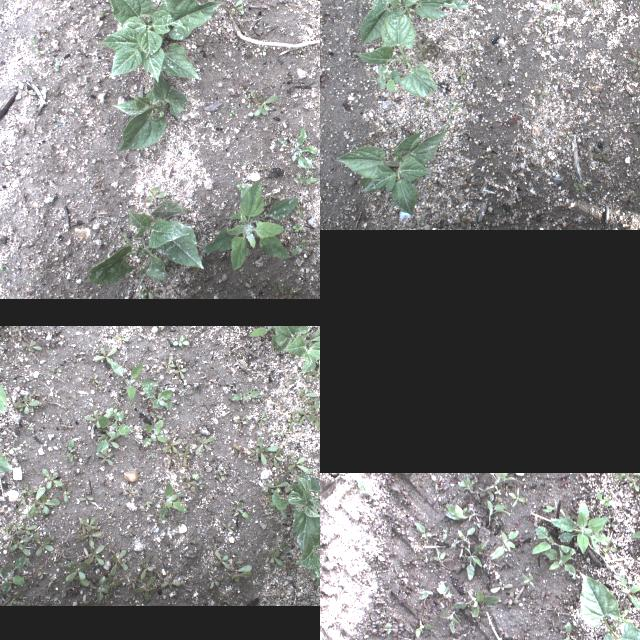crop: (95, 0, 222, 83), (86, 200, 204, 286), (335, 128, 449, 214), (353, 16, 435, 96), (110, 72, 188, 154), (360, 0, 471, 43), (262, 471, 320, 552), (579, 571, 640, 640), (272, 326, 320, 372), (295, 526, 320, 586), (0, 409, 13, 471)
weed: (205, 181, 298, 271), (549, 502, 609, 554), (111, 360, 159, 400), (275, 126, 319, 168), (17, 482, 61, 518), (96, 410, 132, 452), (532, 526, 574, 560), (449, 588, 498, 616), (478, 472, 524, 500), (160, 482, 188, 520), (1, 554, 27, 594), (614, 574, 640, 612), (540, 548, 576, 574), (464, 538, 486, 580), (490, 529, 520, 559), (244, 90, 278, 116), (441, 97, 467, 129), (249, 326, 280, 352), (250, 437, 278, 465), (374, 65, 402, 91), (429, 540, 453, 570), (142, 419, 168, 446), (446, 503, 484, 521), (61, 562, 89, 586), (486, 499, 510, 527), (134, 576, 158, 602), (143, 387, 173, 407), (15, 390, 40, 412), (32, 532, 54, 556), (78, 524, 102, 546), (230, 557, 252, 581), (452, 526, 474, 550), (100, 430, 120, 456), (441, 608, 461, 634), (291, 170, 319, 188), (8, 534, 30, 556), (271, 280, 297, 298), (110, 550, 128, 576), (85, 410, 111, 428), (84, 544, 104, 566), (100, 572, 122, 592), (288, 452, 308, 474), (416, 618, 436, 640), (90, 576, 108, 600), (436, 579, 452, 605), (592, 144, 612, 164), (195, 434, 215, 454), (42, 468, 62, 488), (232, 388, 260, 402), (93, 346, 117, 362), (147, 186, 167, 204), (298, 406, 316, 426), (508, 486, 526, 506), (266, 477, 288, 493), (458, 476, 480, 492), (213, 550, 230, 570), (139, 556, 153, 580), (460, 173, 480, 189), (263, 550, 283, 566), (457, 66, 471, 88), (309, 401, 320, 429), (304, 327, 320, 346), (179, 442, 191, 466), (415, 522, 431, 540), (590, 90, 610, 104), (163, 438, 183, 452), (2, 521, 22, 535), (161, 575, 181, 589), (270, 447, 284, 467), (454, 212, 470, 228), (171, 362, 187, 378), (617, 192, 640, 203), (227, 0, 245, 14), (80, 516, 98, 530), (96, 451, 114, 465), (596, 490, 610, 508), (46, 366, 66, 378), (5, 592, 22, 606), (291, 242, 309, 255), (138, 284, 154, 298), (480, 150, 494, 166), (208, 572, 222, 588), (234, 502, 248, 518), (22, 338, 42, 349), (16, 525, 38, 535), (491, 581, 513, 591), (626, 473, 638, 491), (60, 481, 70, 501), (288, 410, 298, 430), (296, 388, 316, 398), (428, 41, 439, 59), (22, 86, 36, 100), (572, 180, 586, 194), (272, 540, 286, 554), (79, 492, 95, 504), (68, 438, 76, 462), (173, 334, 189, 346), (180, 477, 197, 488), (294, 200, 304, 218), (257, 409, 267, 427), (290, 221, 304, 233), (266, 189, 278, 203), (454, 44, 468, 56), (128, 576, 142, 588), (192, 474, 204, 488), (234, 415, 248, 427), (629, 49, 640, 64), (164, 356, 174, 372), (312, 362, 320, 381), (32, 36, 40, 54), (470, 42, 480, 56), (415, 43, 425, 57), (12, 326, 26, 336), (38, 566, 48, 580), (122, 486, 136, 496), (273, 508, 287, 518), (612, 472, 640, 477), (564, 620, 571, 640), (631, 62, 640, 77), (287, 372, 299, 383), (150, 411, 162, 422), (60, 419, 74, 428), (98, 6, 110, 16), (443, 28, 455, 38), (535, 88, 547, 98), (563, 133, 575, 143), (142, 498, 154, 508), (8, 401, 18, 413), (154, 569, 164, 581), (166, 452, 176, 464), (422, 31, 431, 44), (149, 326, 168, 332), (25, 68, 33, 82), (591, 0, 607, 7), (305, 396, 319, 404), (0, 262, 10, 272), (509, 114, 519, 124), (223, 522, 233, 532), (306, 370, 316, 380), (56, 59, 64, 71), (416, 216, 428, 224), (549, 4, 561, 12), (247, 457, 259, 465), (115, 334, 128, 341), (110, 406, 118, 416), (90, 374, 98, 384), (312, 104, 320, 112), (228, 108, 234, 118), (236, 184, 246, 190), (220, 471, 226, 481), (540, 18, 546, 26), (149, 452, 157, 458), (23, 439, 29, 446), (244, 160, 248, 168), (22, 599, 26, 605)
